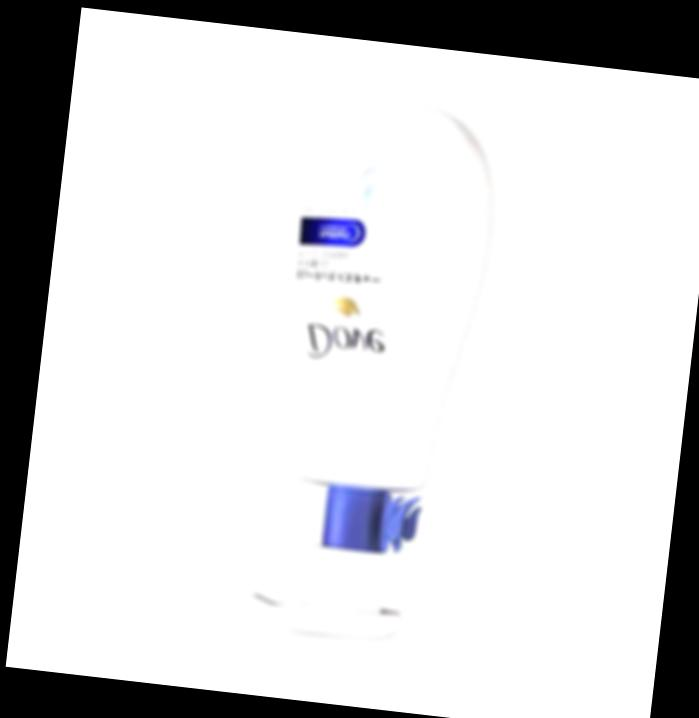cosmetic: (229, 83, 511, 654)
